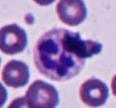N: (33, 27, 99, 80)
